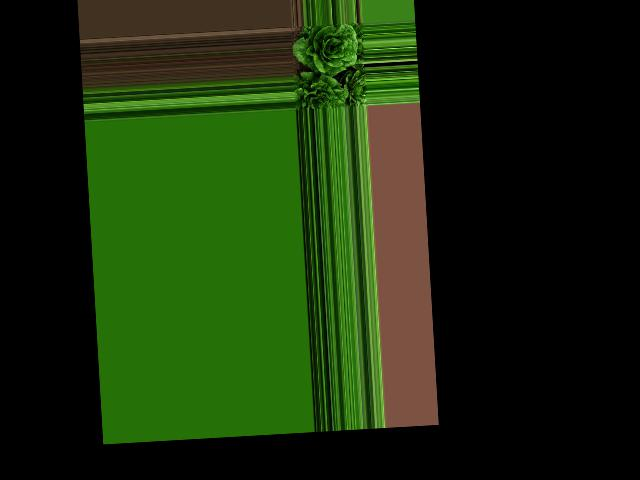lettuce: (295, 73, 349, 111)
